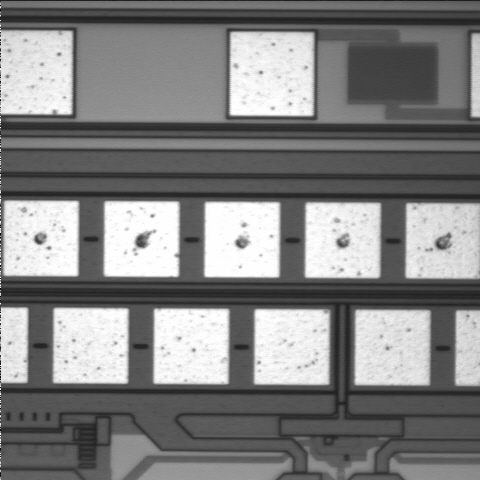pad: (230, 32, 314, 116), (104, 201, 180, 277), (204, 202, 280, 278), (305, 202, 381, 278), (53, 308, 129, 384), (254, 309, 330, 385), (3, 201, 79, 276), (153, 309, 229, 384), (355, 310, 430, 385)
